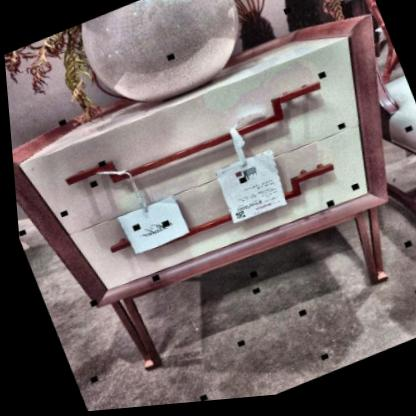Nightstand: (3, 13, 416, 378)
